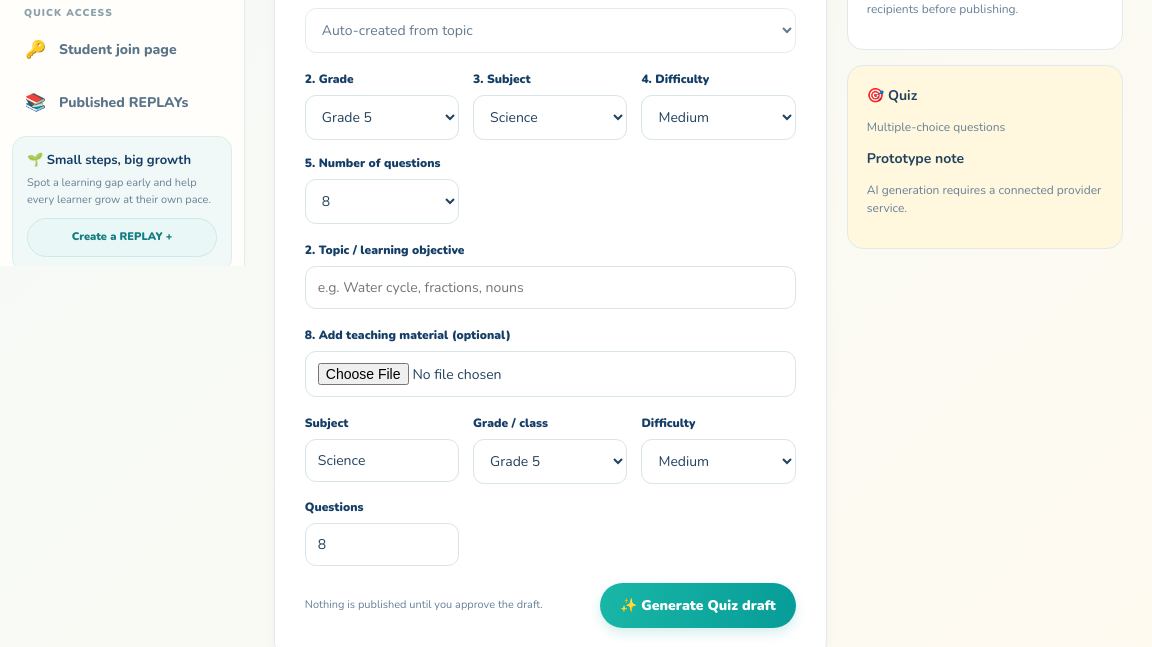
it: a reported quiz shortfall stays in the error modal instead of claiming the draft is ready
The image size is (1152, 647).
(page scrolled)
In the field labelled "2. Topic / learning objective": [550, 288] box [305,266,796,309], type "Water cycle"
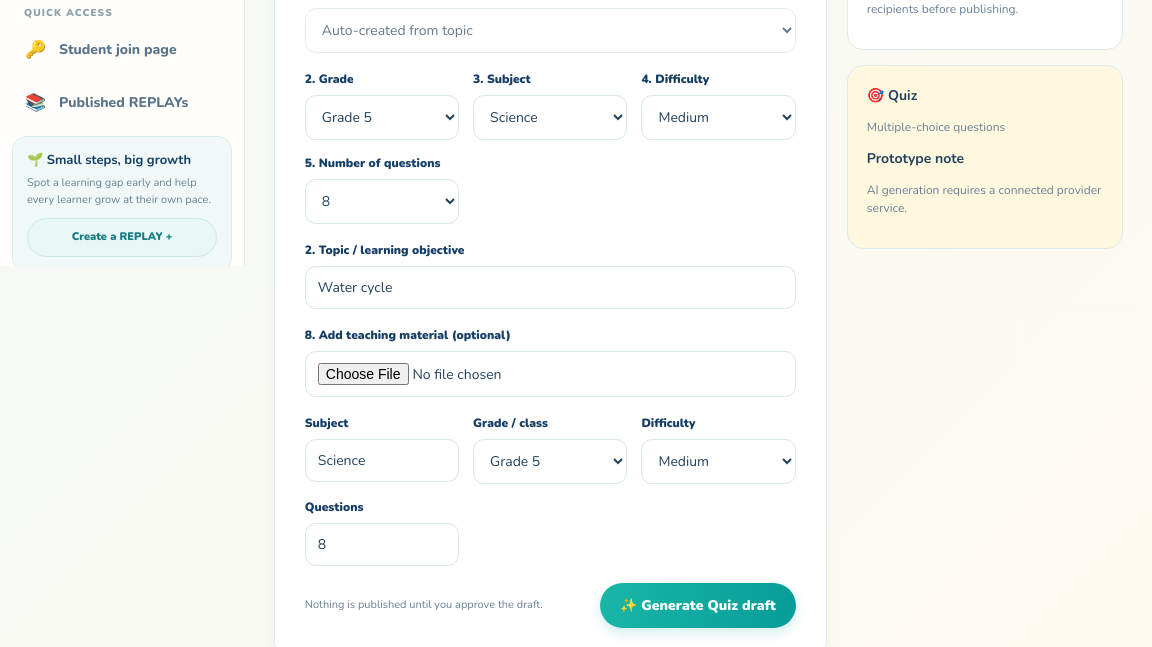
Click the button "✨ Generate Quiz draft": [698, 606] box [600,583,796,628]
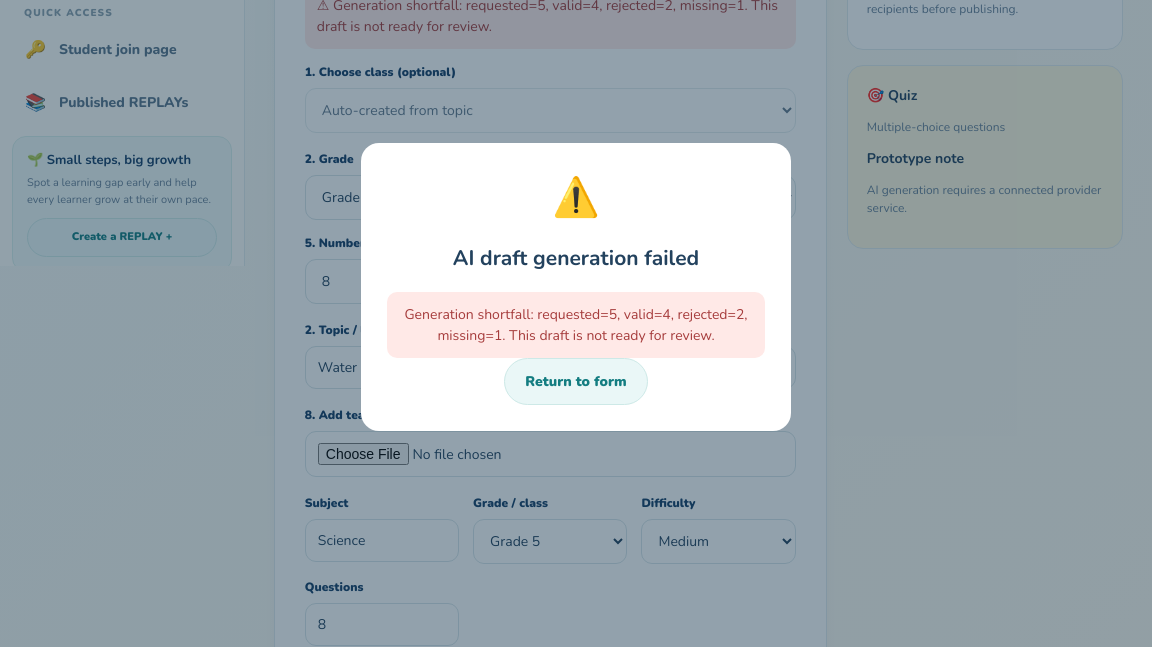
Result: the dialog "generation failed" shows "requested=5, valid=4, rejected=2, missing=1" at [404,305,748,345]
